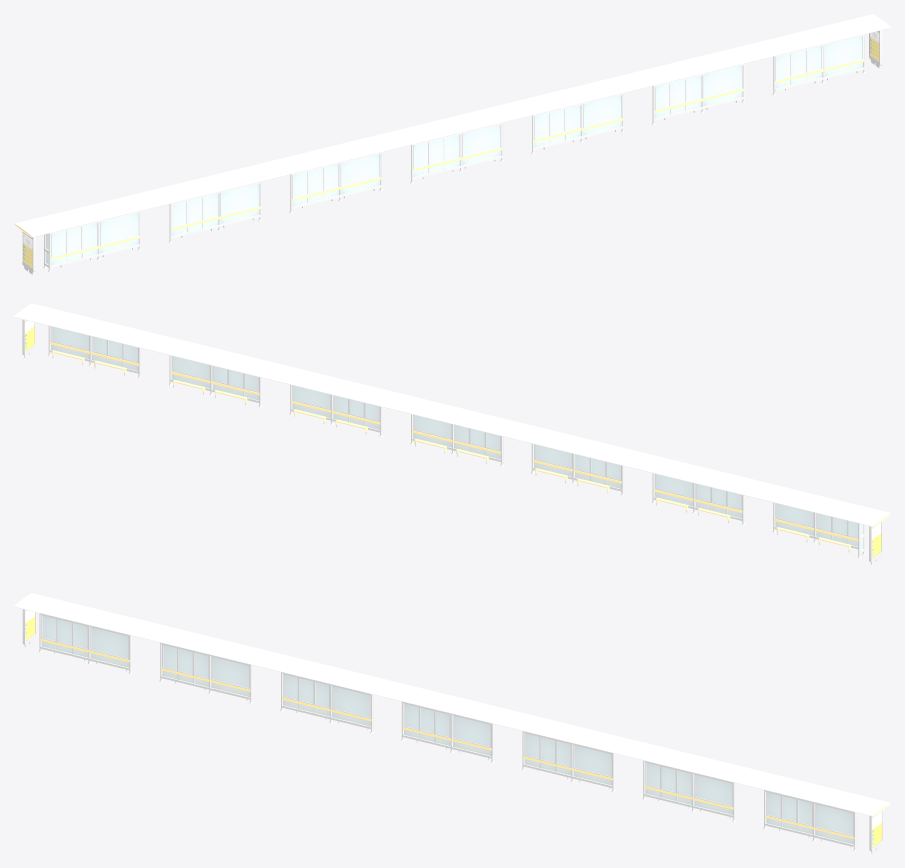
The model's file is Bus_Stop_4.glb.
3 renders of one model, top to bottom at view 1: azimuth 30°, elevation 25°; view 2: azimuth 150°, elevation 25°; view 3: azimuth 330°, elevation 25°, orthographic.
Parts seen in each view (by area): view 1: Bus_Stop_4; view 2: Bus_Stop_4; view 3: Bus_Stop_4.
Boxes of the visible parts, x1,y1,x2,y2 form: Bus_Stop_4: [14, 14, 890, 274]; Bus_Stop_4: [14, 303, 890, 564]; Bus_Stop_4: [14, 593, 890, 853].
Bounding box in the file's own units: 55 × 2.7 × 2.
Materials: 5 (3 with a texture image).
